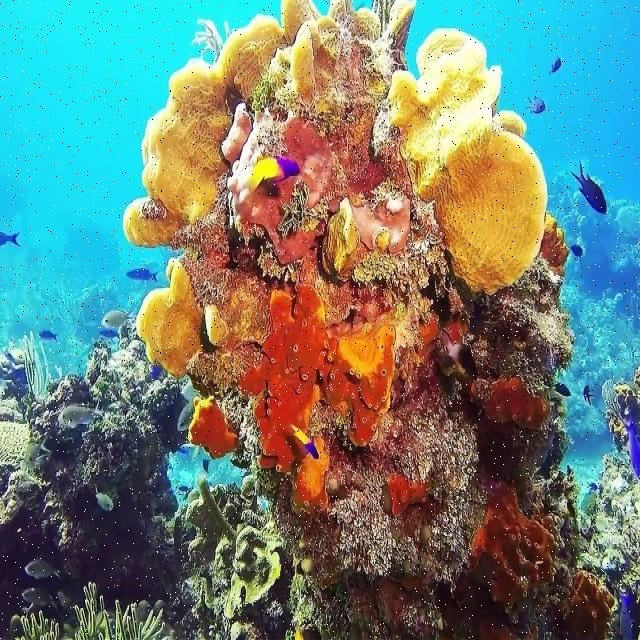fish: (249, 156, 300, 211), (570, 159, 607, 215), (57, 398, 103, 428), (289, 423, 320, 459), (22, 588, 61, 612), (25, 557, 65, 580), (24, 435, 51, 463), (628, 414, 639, 481), (101, 309, 134, 329), (177, 398, 195, 431), (95, 484, 113, 512), (127, 269, 159, 283), (527, 95, 546, 114), (0, 231, 22, 246), (552, 380, 572, 396), (37, 329, 59, 342), (549, 55, 562, 76), (97, 328, 121, 339), (583, 385, 595, 405), (571, 244, 584, 256)
reefs: (122, 0, 619, 639), (174, 470, 285, 619), (0, 329, 52, 526), (10, 583, 187, 639)
